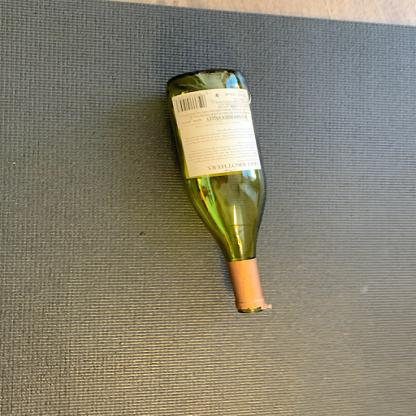trash: (162, 66, 311, 314)
